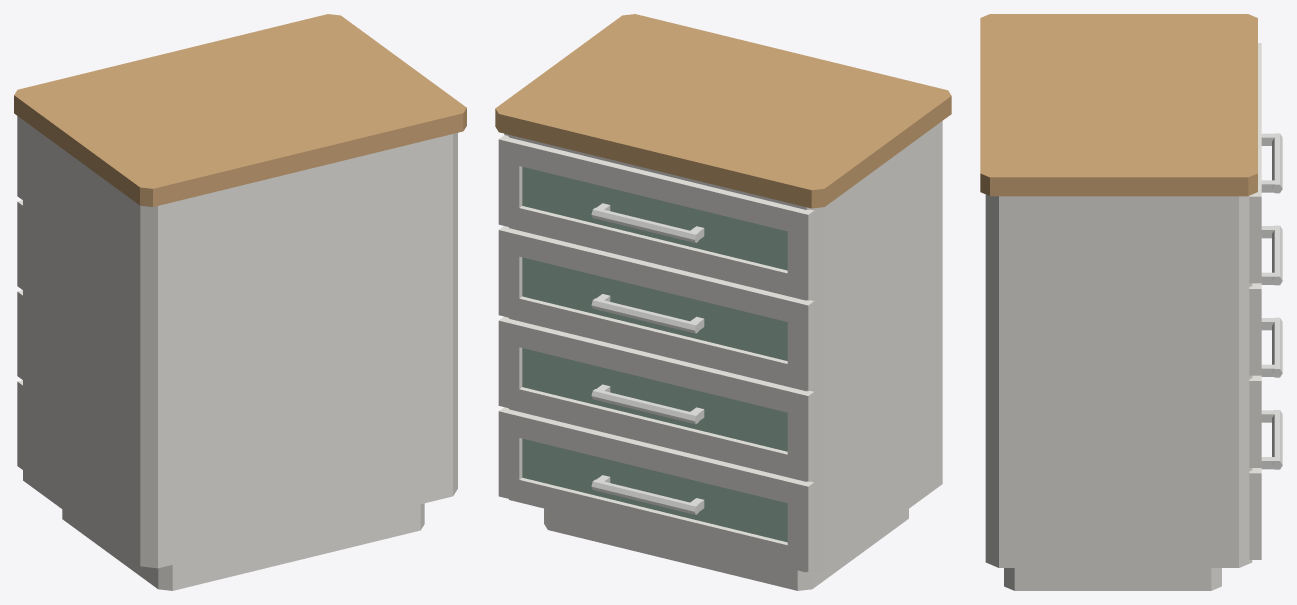
File: SM_LPI_Kids_Chest_01.fbx
The picture shows the model from 3 angles, left to right: view 1: azimuth 30°, elevation 25°; view 2: azimuth 150°, elevation 25°; view 3: azimuth 270°, elevation 25°; orthographic projection. The views are drawn at different scales.
Visible parts, largest first — view 1: SM_LPI_Kids_Chest_01; view 2: SM_LPI_Kids_Chest_01; view 3: SM_LPI_Kids_Chest_01.
Boxes of the visible parts, x1,y1,x2,y2 form: SM_LPI_Kids_Chest_01: (14, 14, 466, 590); SM_LPI_Kids_Chest_01: (495, 14, 951, 590); SM_LPI_Kids_Chest_01: (980, 14, 1282, 590).
Bounding box in the file's own units: 0.638 × 0.78 × 0.499.
